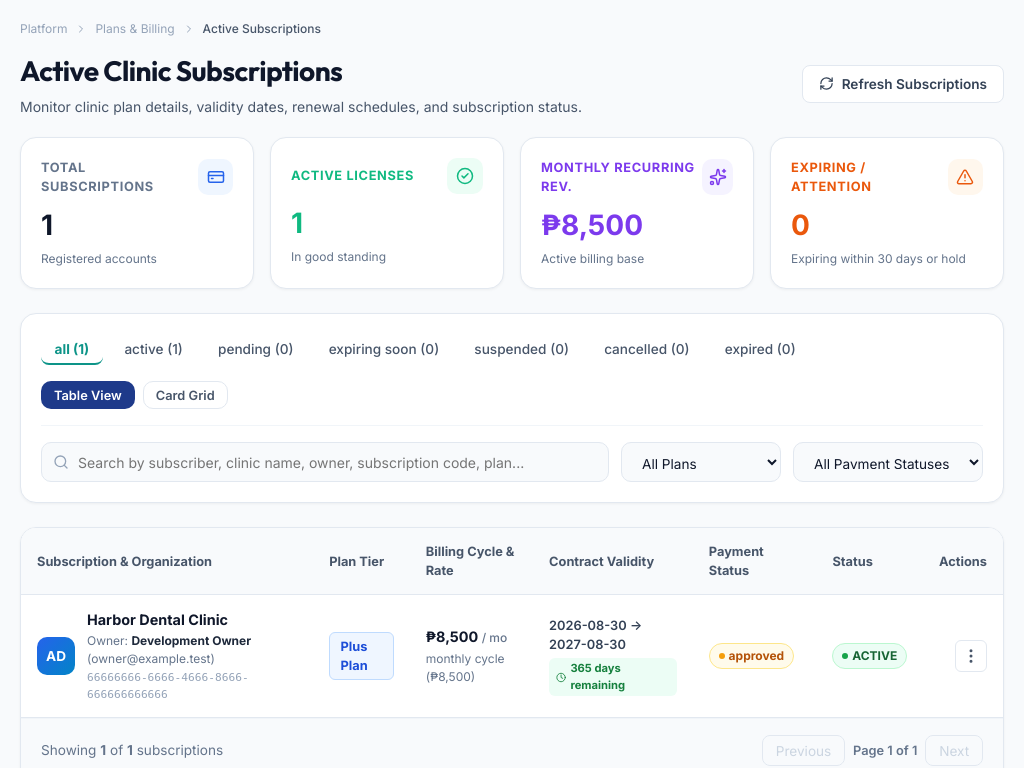
SubscriptionsPage › renders the list, filters, tabs, and row action menu
Expected: the text "Harbor Dental Clinic" is shown, top-left (87, 610), bottom-right (228, 628)
Expected: the heading "Active Clinic Subscriptions" is shown, top-left (20, 53), bottom-right (342, 88)
Type "Plus" into the field with placeholder "subscriber, clinic name, owner".
click(325, 462); type("Plus")  # box top-left (41, 442), bottom-right (609, 482)
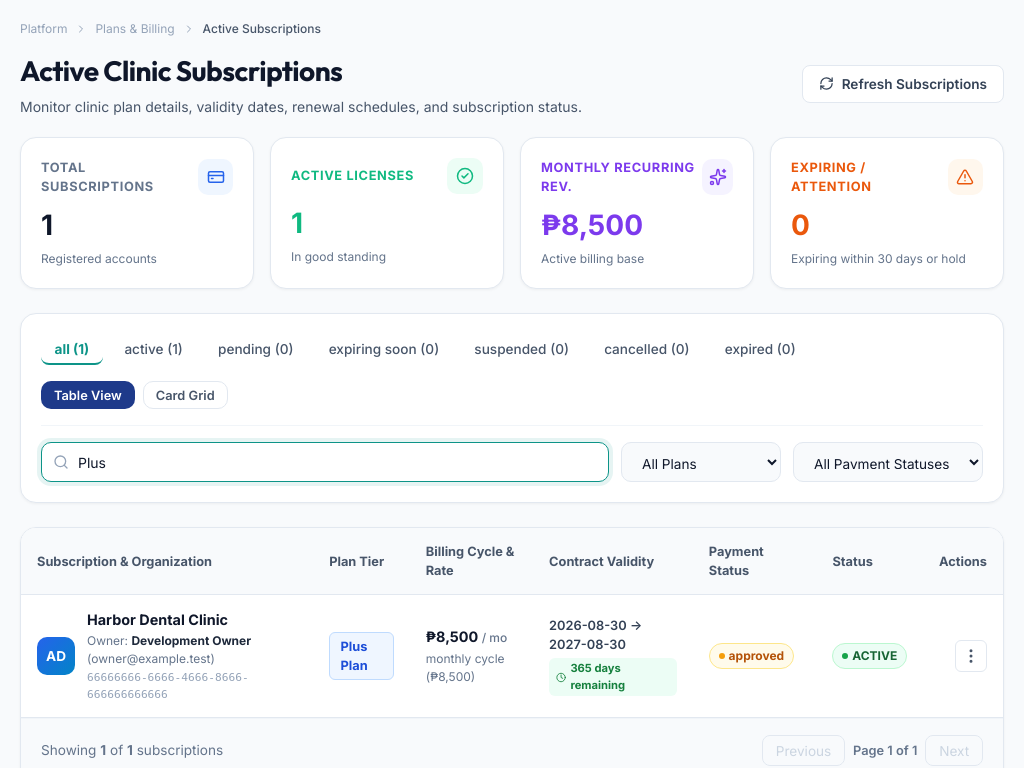
Expected: the text "Showing 1 of 1 subscriptions" is shown, top-left (41, 740), bottom-right (223, 761)
Click the button "active (1)".
click(154, 350)  # box top-left (111, 334), bottom-right (196, 365)
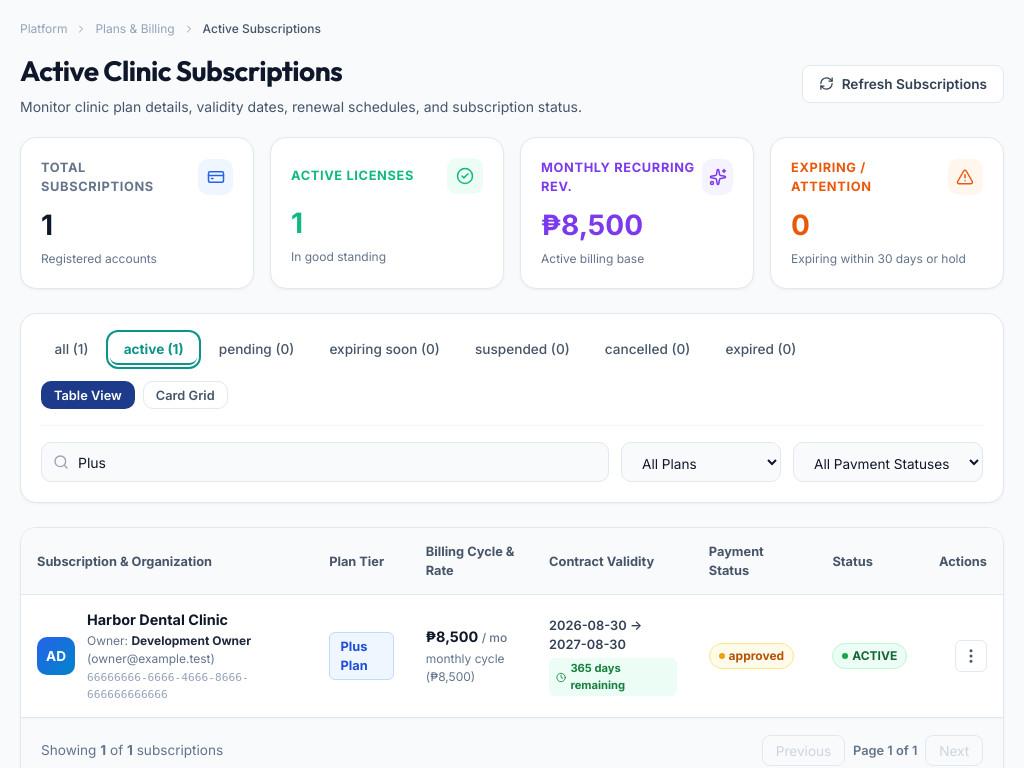
Click the button named "actions for subscription".
click(971, 656)  # box top-left (955, 640), bottom-right (987, 672)
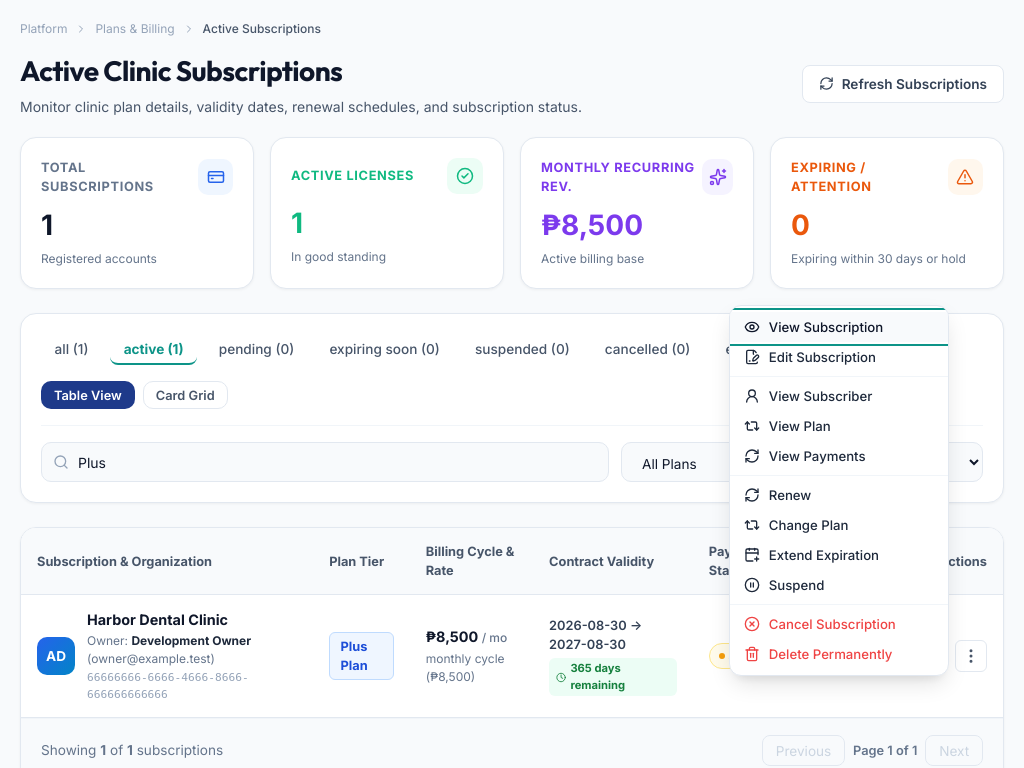
Now the menu item "View Subscription" is shown, box top-left (730, 312), bottom-right (948, 342)
